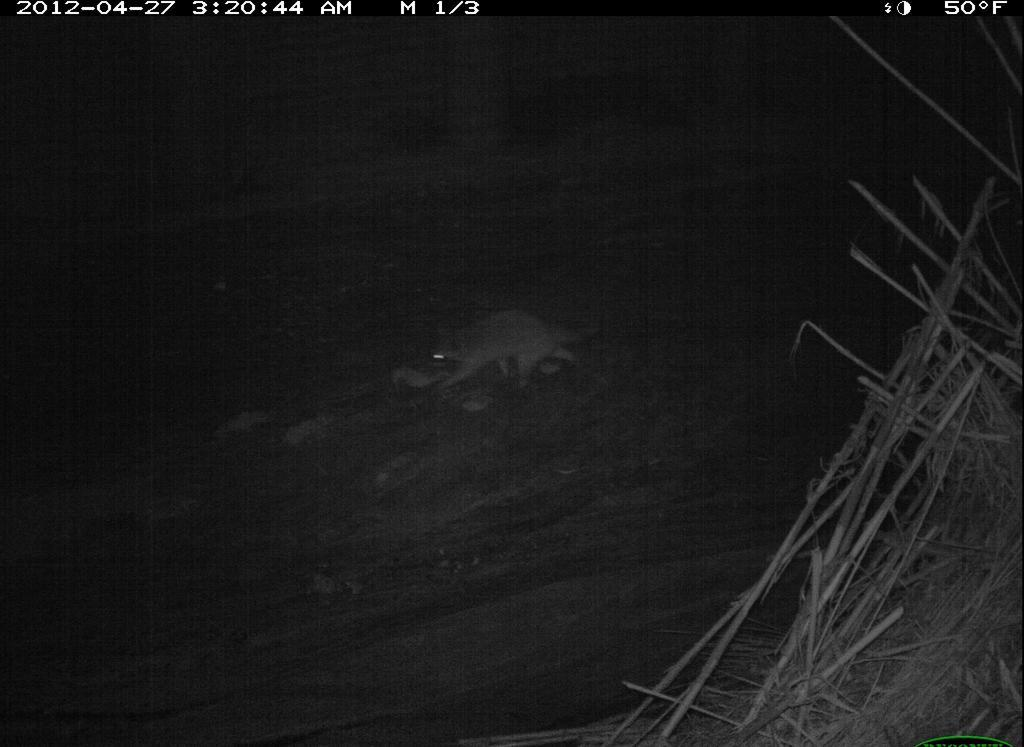raccoon: (418, 305, 589, 402)
